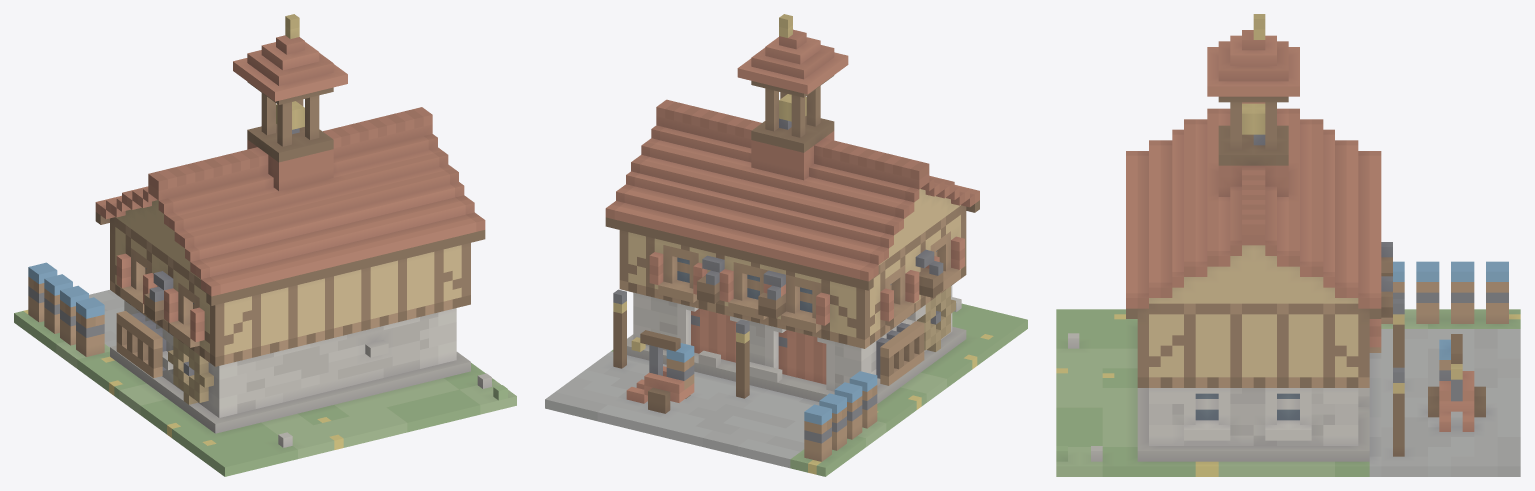
The model's file is fire_station.l1.glb.
3 views of the same model, side by side, from view 1: azimuth 30°, elevation 25°; view 2: azimuth 150°, elevation 25°; view 3: azimuth 270°, elevation 25° (orthographic). The views are drawn at different scales.
Parts seen in each view (by area): view 1: fire_station; view 2: fire_station; view 3: fire_station.
Boxes of the visible parts, box(x1,y1,x2,y2) form: fire_station: box(14, 14, 516, 476); fire_station: box(545, 14, 1027, 476); fire_station: box(1056, 14, 1520, 476).
Size of the model in its own units: 4 by 4.62 by 5.
